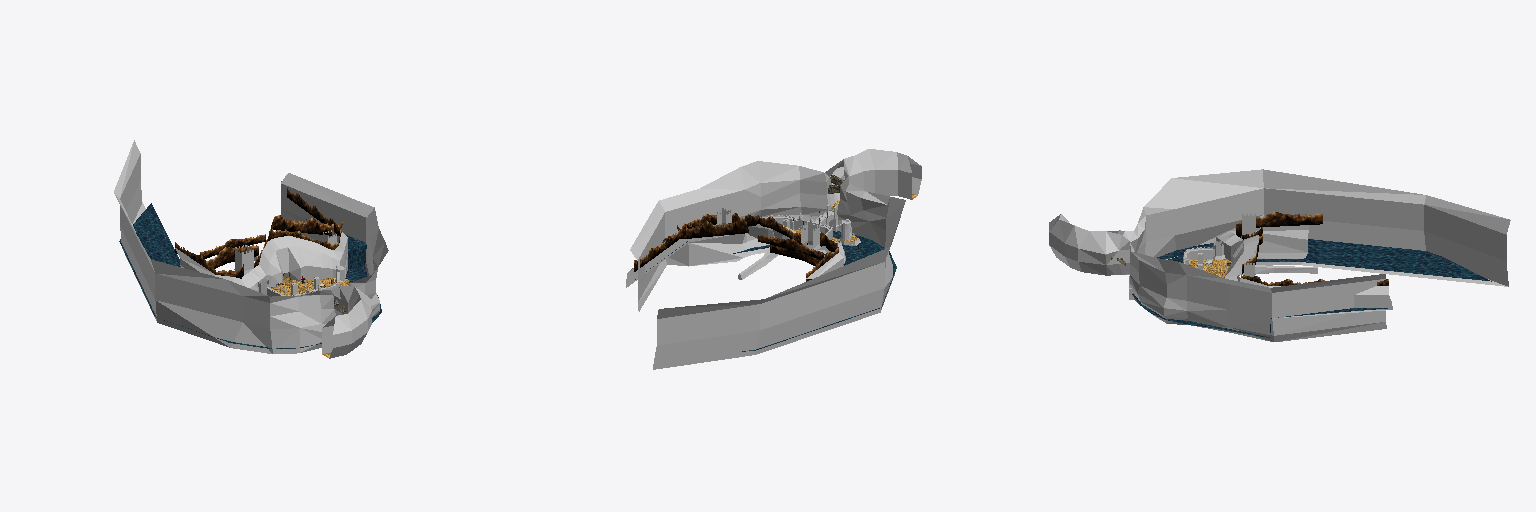
The picture shows the model from 3 angles: view 1: azimuth 30°, elevation 25°; view 2: azimuth 150°, elevation 25°; view 3: azimuth 270°, elevation 25°; orthographic projection.
Visible parts, largest first — view 1: #Room0#_Valley_StoneWall-noCollision#NoCollision, #Room0#_Valley_StoneWall#SFX_2#FLOORSPECIAL_QUICKSAND_EPONA, #Room0#_Valley_SandStone., #Room0#_Valley#Room2#Room1#Animated8_Water.004#NoCollision#Backf, #Room0#_Valley#Room2#Room1#NoCollision.003_Moutain2., #Room0#_MoutainBackground#NoCollision.001_Moutain2., #Room0#_MoutainBackground#NoCollision.003_Moutain2.; view 2: #Room0#_Valley_StoneWall-noCollision#NoCollision, #Room0#_Valley_SandStone., #Room0#_Valley_StoneWall#SFX_2#FLOORSPECIAL_QUICKSAND_EPONA, #Room0#_Valley#Room2#Room1#NoCollision.003_Moutain2., #Room0#_Valley#Steep_SandStone., #Room0#_MoutainBackground#NoCollision.001_Moutain2., #Room0#_Valley#Room2#Room1#Animated8_Water.004#NoCollision#Backf, #Room0#_MoutainBackground#NoCollision.003_Moutain2.; view 3: #Room0#_Valley_StoneWall-noCollision#NoCollision, #Room0#_Valley_SandStone., #Room0#_Valley_StoneWall#SFX_2#FLOORSPECIAL_QUICKSAND_EPONA, #Room0#_Valley#Room2#Room1#Animated8_Water.004#NoCollision#Backf, #Room0#_Valley#Room2#Room1#NoCollision.003_Moutain2., #Room0#_Valley#Steep_SandStone., #Room1#_Valley#NoCollision_StoneWall#SFX_2#FLOORSPECIAL_QUICKSAN, #Room0#_Exit#Room2#Room1#Speed3#Direction30#WaterStream#Exit02_b.
Boxes of the visible parts, x1,y1,x2,y2 form: #Room0#_Valley_StoneWall-noCollision#NoCollision: [114, 140, 388, 334]; #Room0#_Valley_StoneWall#SFX_2#FLOORSPECIAL_QUICKSAND_EPONA: [155, 246, 377, 358]; #Room0#_Valley_SandStone.: [120, 180, 379, 353]; #Room0#_Valley#Room2#Room1#Animated8_Water.004#NoCollision#Backf: [119, 203, 381, 348]; #Room0#_Valley#Room2#Room1#NoCollision.003_Moutain2.: [175, 181, 341, 278]; #Room0#_MoutainBackground#NoCollision.001_Moutain2.: [200, 234, 265, 268]; #Room0#_MoutainBackground#NoCollision.003_Moutain2.: [271, 215, 342, 235]; #Room0#_Valley_StoneWall-noCollision#NoCollision: [626, 149, 920, 345]; #Room0#_Valley_SandStone.: [638, 207, 894, 369]; #Room0#_Valley_StoneWall#SFX_2#FLOORSPECIAL_QUICKSAND_EPONA: [724, 163, 921, 279]; #Room0#_Valley#Room2#Room1#NoCollision.003_Moutain2.: [634, 213, 838, 281]; #Room0#_Valley#Steep_SandStone.: [688, 234, 845, 265]; #Room0#_MoutainBackground#NoCollision.001_Moutain2.: [758, 235, 823, 265]; #Room0#_Valley#Room2#Room1#Animated8_Water.004#NoCollision#Backf: [635, 231, 896, 351]; #Room0#_MoutainBackground#NoCollision.003_Moutain2.: [677, 218, 748, 238]; #Room0#_Valley_StoneWall-noCollision#NoCollision: [1049, 169, 1510, 318]; #Room0#_Valley_SandStone.: [1137, 215, 1508, 341]; #Room0#_Valley_StoneWall#SFX_2#FLOORSPECIAL_QUICKSAND_EPONA: [1049, 188, 1317, 300]; #Room0#_Valley#Room2#Room1#Animated8_Water.004#NoCollision#Backf: [1132, 239, 1491, 337]; #Room0#_Valley#Room2#Room1#NoCollision.003_Moutain2.: [1236, 211, 1388, 285]; #Room0#_Valley#Steep_SandStone.: [1250, 237, 1307, 265]; #Room1#_Valley#NoCollision_StoneWall#SFX_2#FLOORSPECIAL_QUICKSAN: [1130, 250, 1166, 296]; #Room0#_Exit#Room2#Room1#Speed3#Direction30#WaterStream#Exit02_b: [1303, 264, 1507, 286].
Bounding box in the file's own units: 14034 × 4324 × 24580.
Materials: 66 (25 with a texture image).